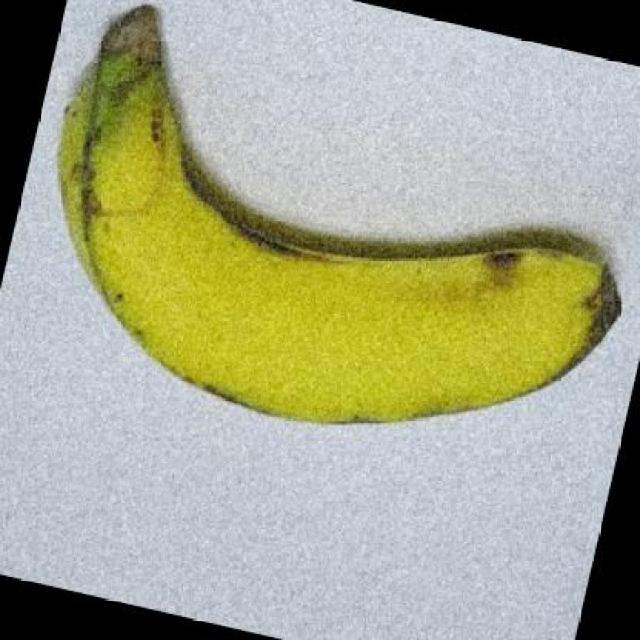ripe: (60, 6, 640, 468)
